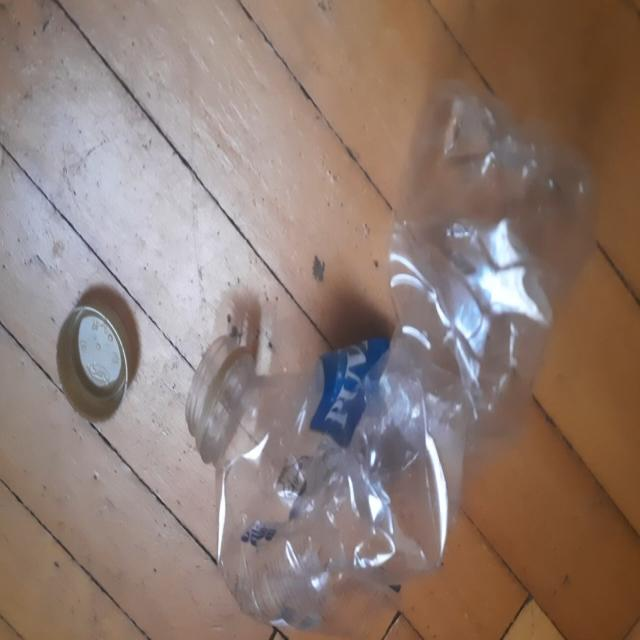Plastic: (185, 79, 597, 632)
